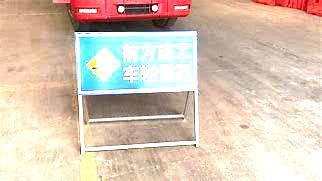sign: (72, 31, 201, 94)
